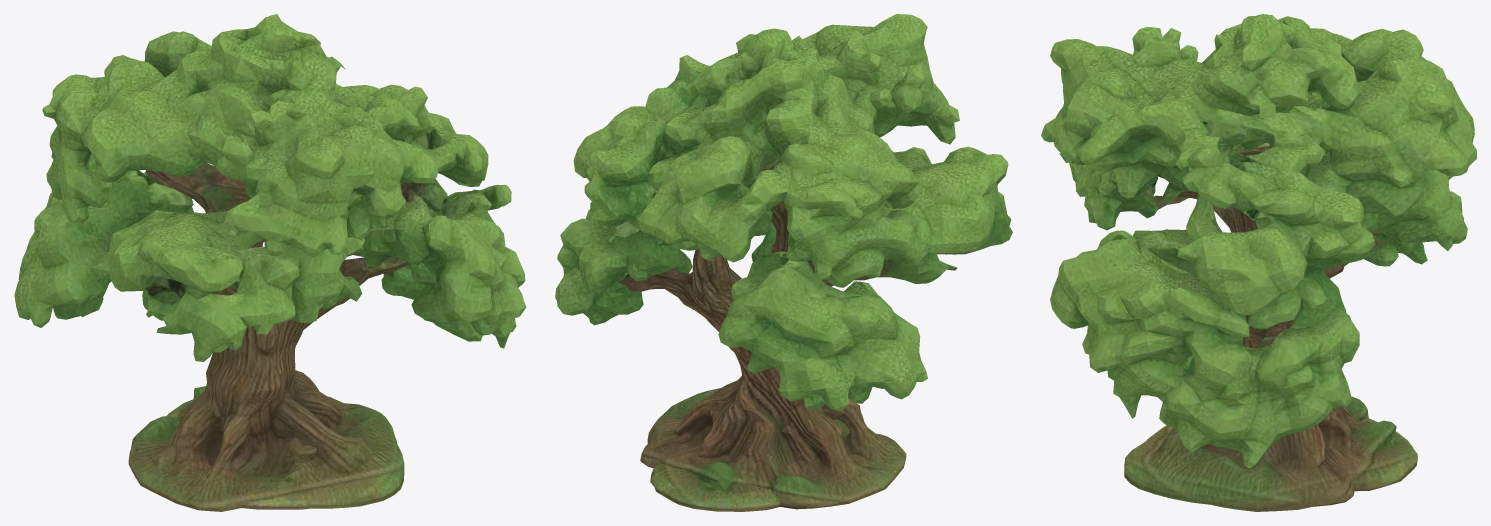
Rendered from tree_verdant.glb.
3 views of the same model, side by side, from view 1: azimuth 30°, elevation 25°; view 2: azimuth 150°, elevation 25°; view 3: azimuth 270°, elevation 25° (orthographic). The views are drawn at different scales.
Size of the model in its own units: 1.88 by 1.9 by 1.7.
1 material, 1 textured.
